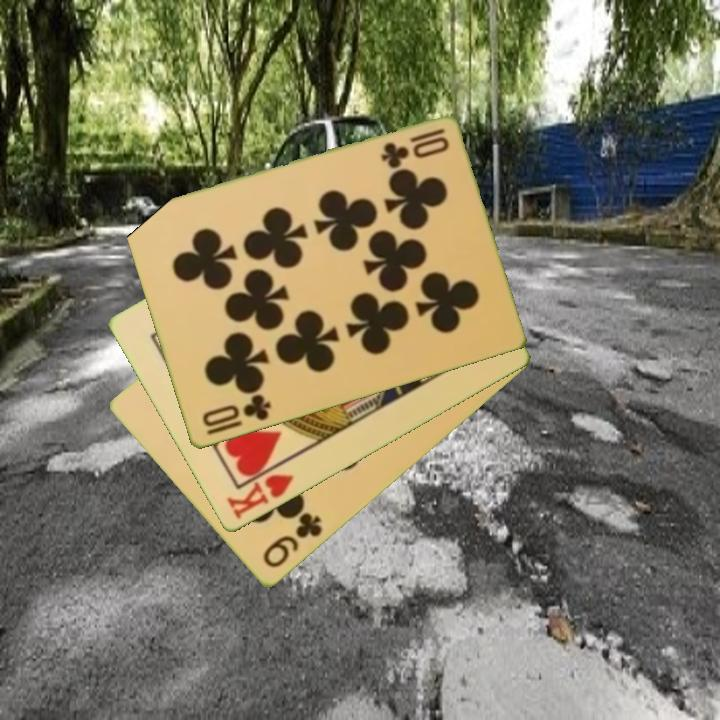10c: (377, 125, 447, 170), (198, 391, 274, 431)
9c: (259, 509, 325, 572)
Kh: (223, 457, 297, 523)
